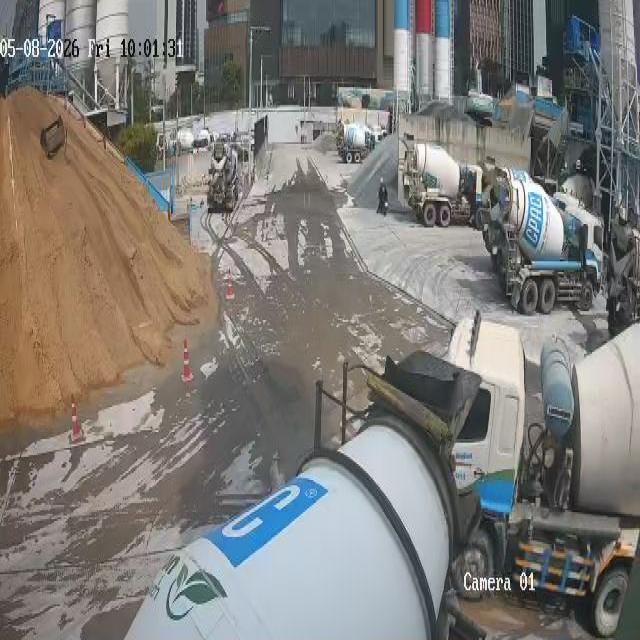cement_mixer_truck: (115, 371, 488, 640), (435, 291, 640, 628), (486, 182, 604, 302), (398, 120, 484, 228), (603, 215, 640, 333), (534, 165, 600, 208), (206, 140, 240, 214), (335, 121, 386, 160), (491, 159, 538, 185), (190, 130, 213, 156)
